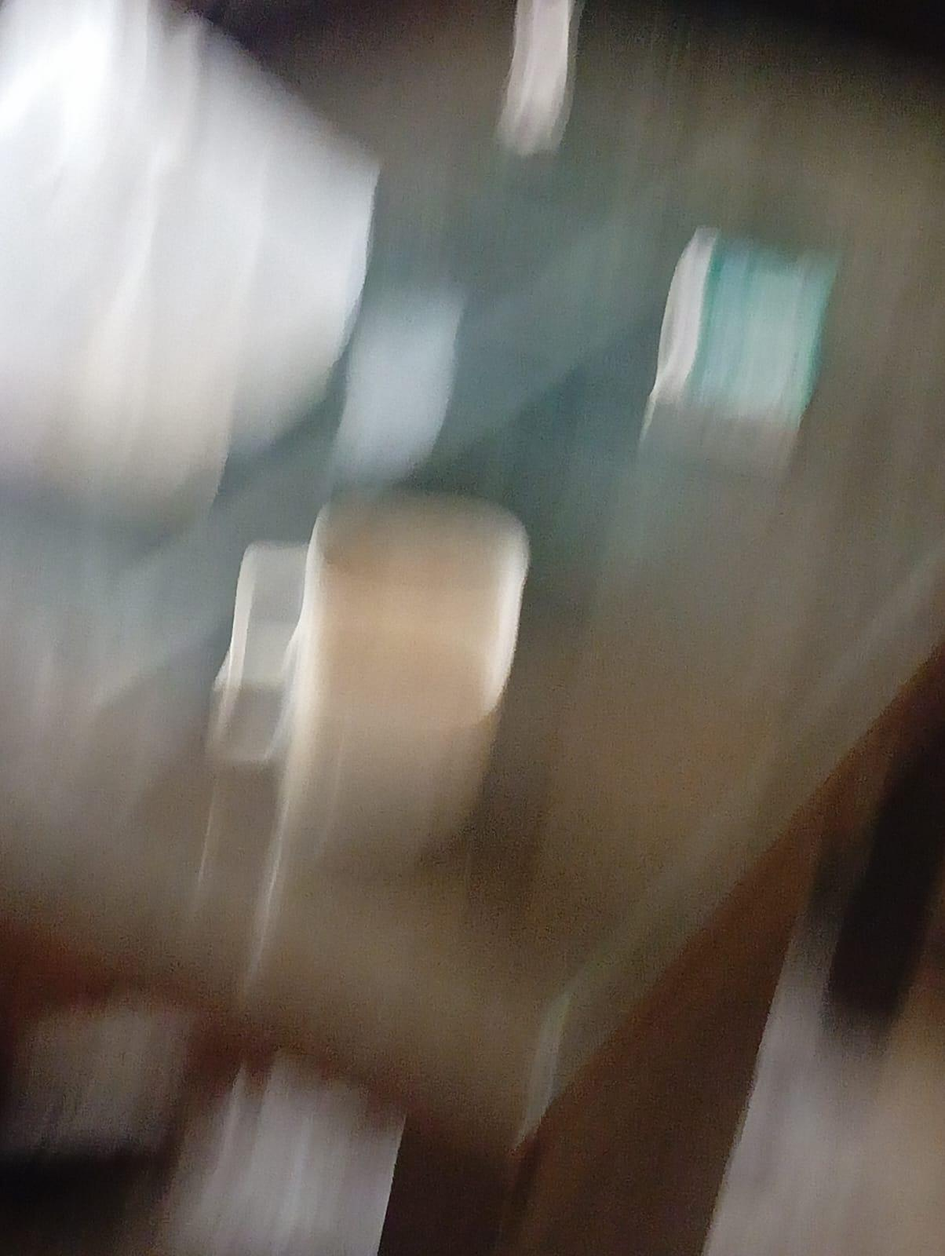cup: (306, 495, 528, 746)
